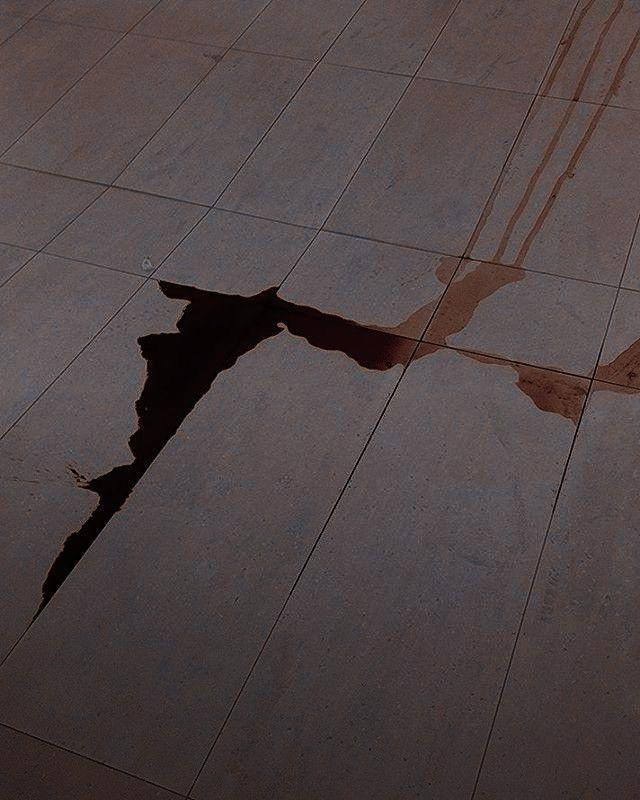blood_25.png: (10, 12, 640, 626)
